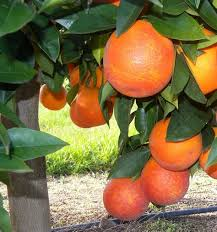orange: (96, 23, 178, 97), (150, 112, 197, 168), (100, 171, 152, 217), (141, 158, 190, 205), (74, 87, 114, 126), (39, 82, 67, 111)
